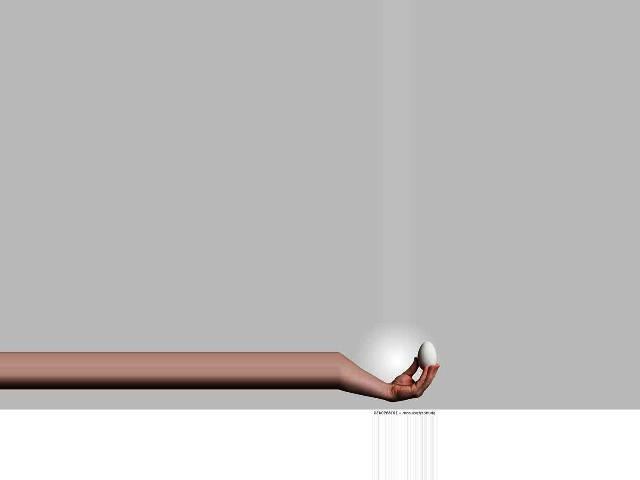egg: (416, 341, 436, 370)
